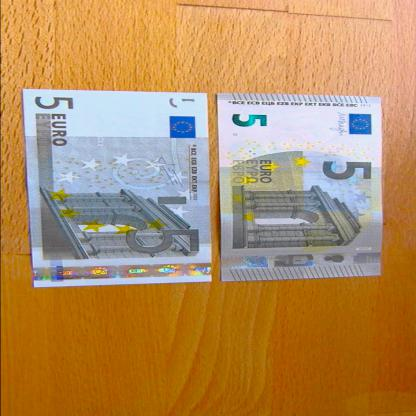euro_banknote: (19, 94, 217, 279), (207, 105, 396, 269)
